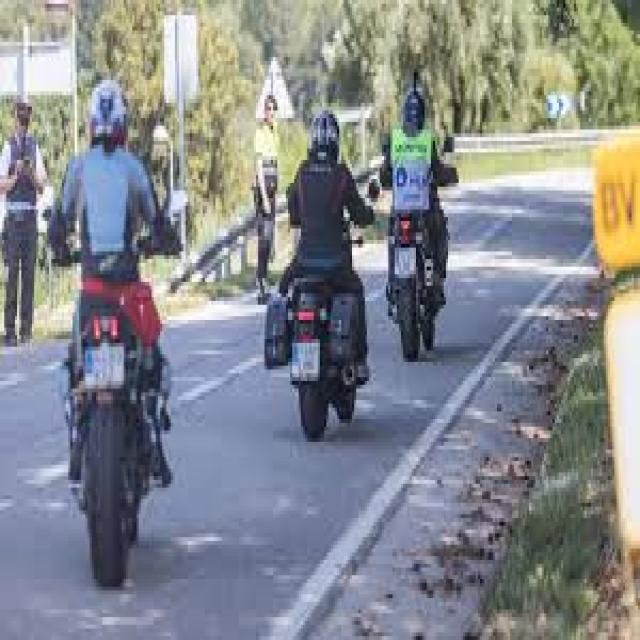MOTORCYCLE: (70, 230, 173, 602), (269, 196, 371, 420), (384, 173, 443, 349)
